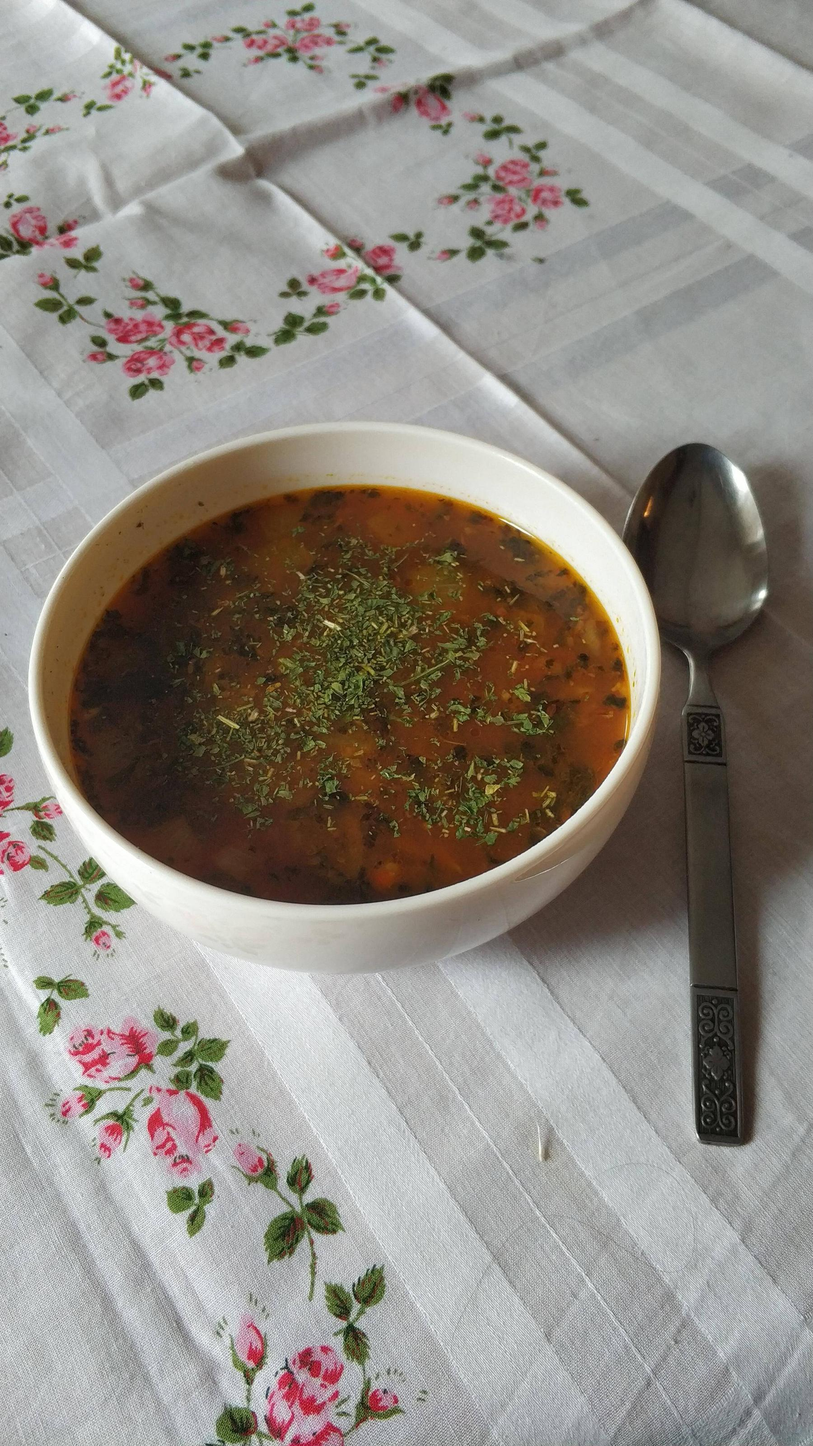gundruk: (126, 506, 547, 872)
